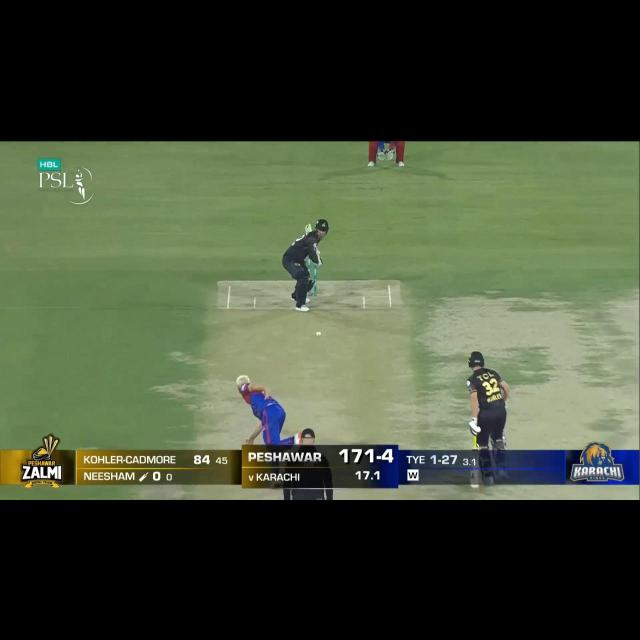toe: (468, 483, 482, 492), (304, 224, 314, 234)
